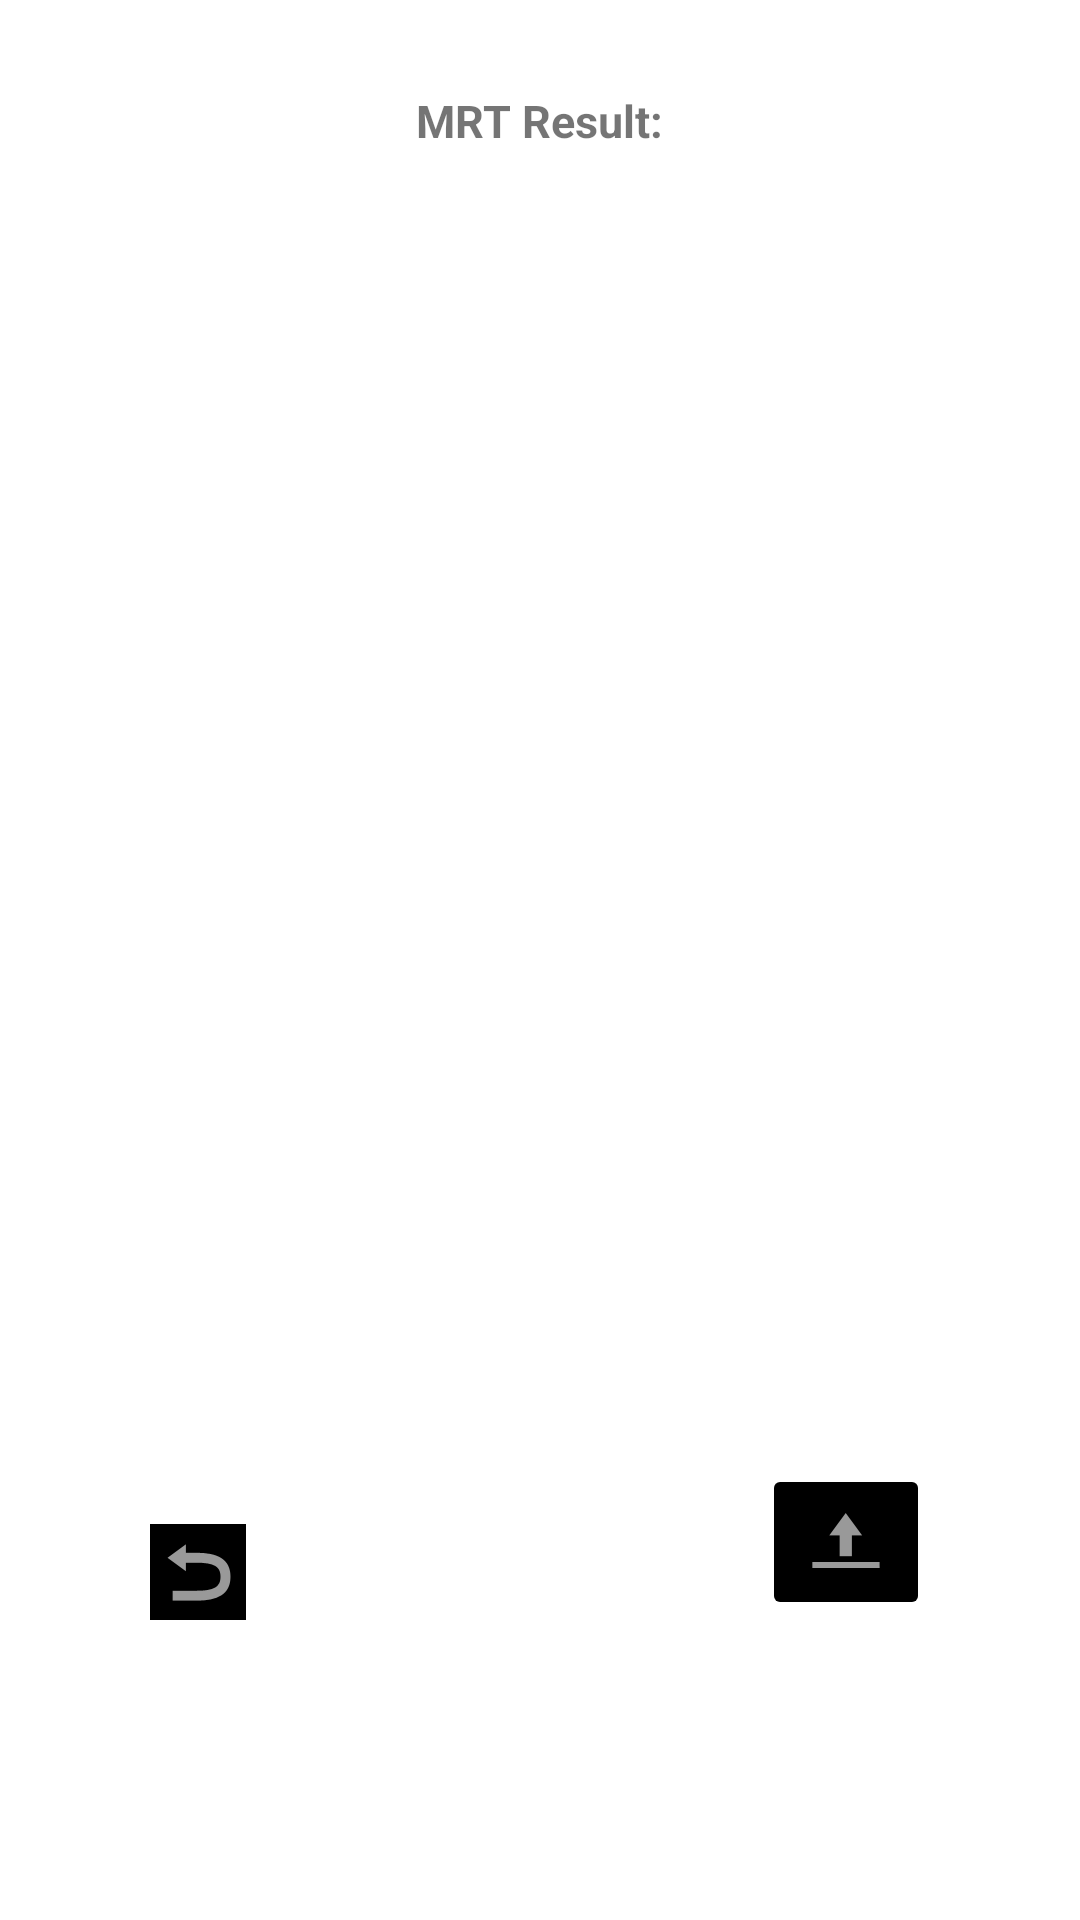

Icons on this 1080w x 1920h Android screen, each with its box as (x1, y1, x2, y2):
revert: (150, 1524, 246, 1620)
upload you tube: (774, 1482, 918, 1602)
